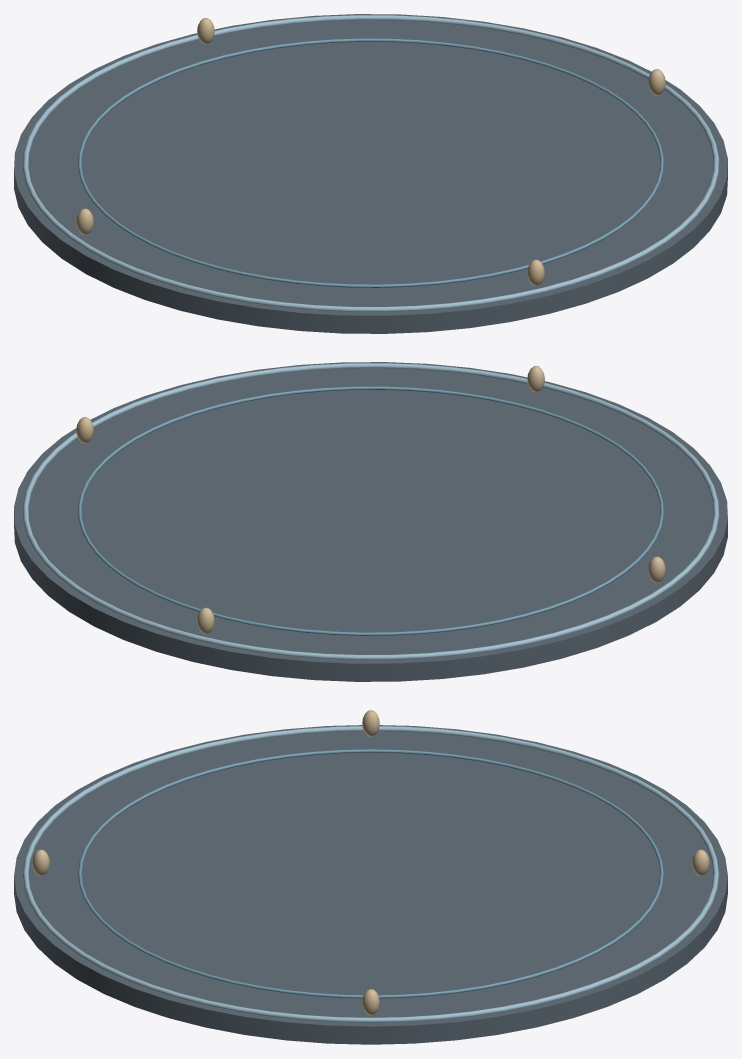
The model's file is carpur-gallery-platform.glb.
3 views of the same model, one above another, from view 1: azimuth 30°, elevation 25°; view 2: azimuth 150°, elevation 25°; view 3: azimuth 270°, elevation 25° (orthographic).
Parts seen in each view (by area): view 1: carpur-original; view 2: carpur-original; view 3: carpur-original.
Boxes of the visible parts, left/top/right/bottom form: carpur-original: left=14, top=14, right=727, bottom=333; carpur-original: left=14, top=362, right=727, bottom=681; carpur-original: left=14, top=710, right=727, bottom=1044.
Size of the model in its own units: 6.06 by 0.41 by 6.06.
